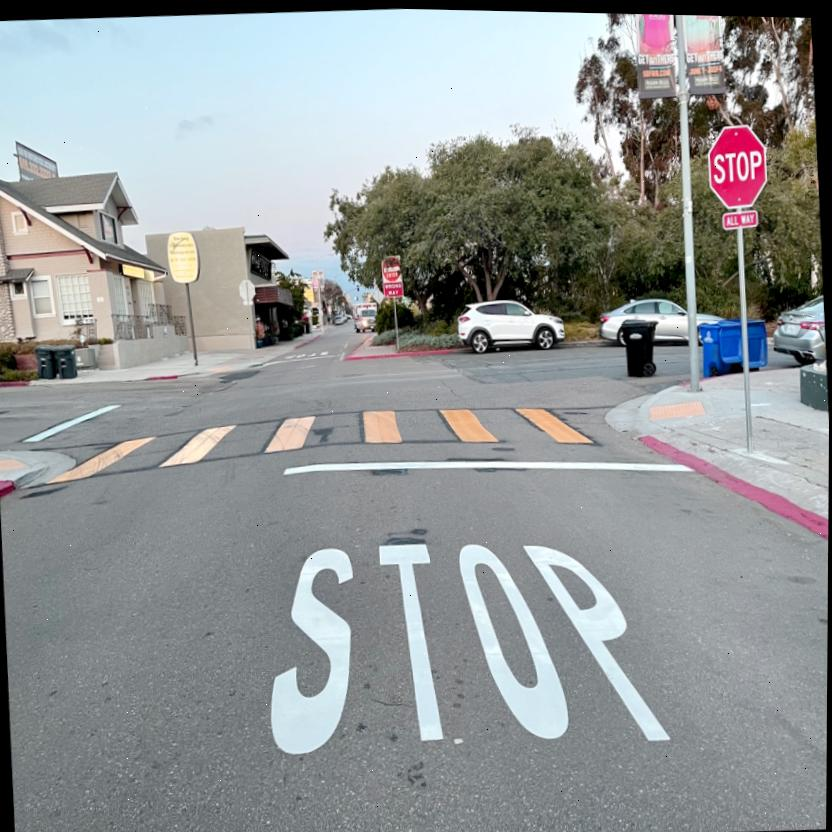Pole: (733, 224, 757, 446)
Sign: (706, 122, 770, 208)
